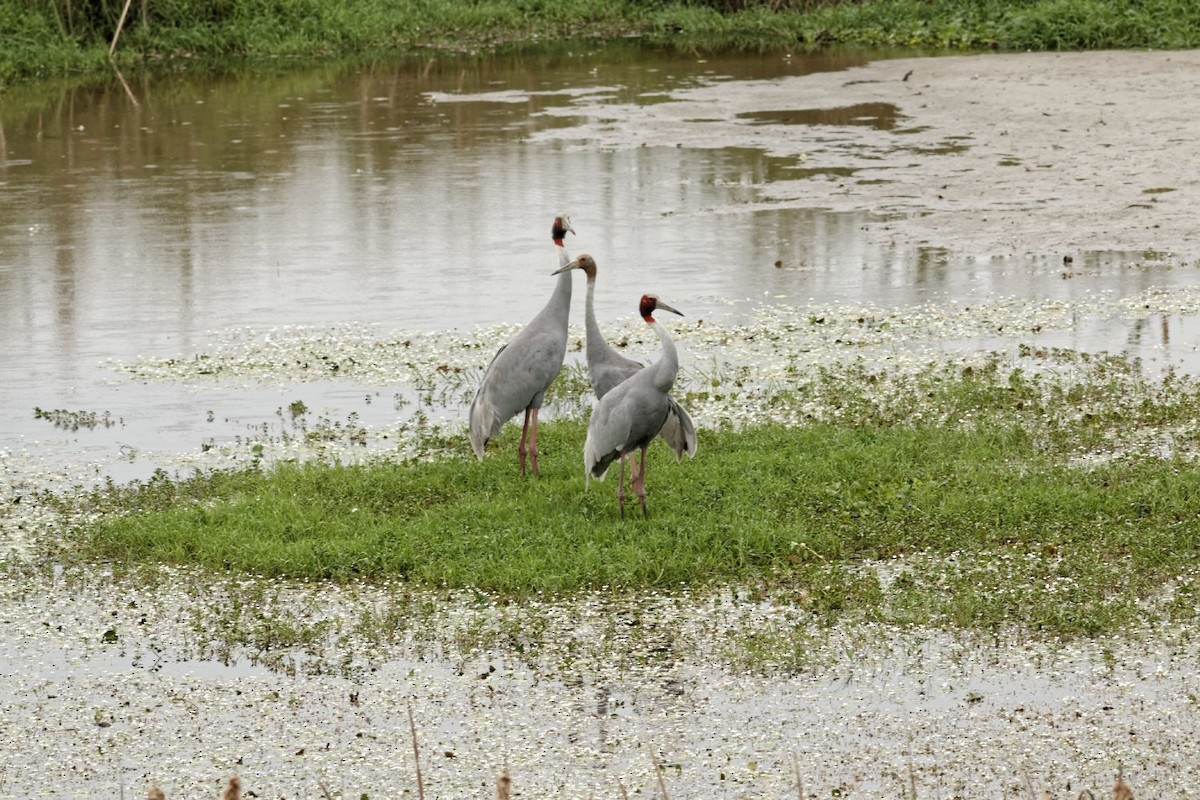crane: (468, 209, 580, 480), (591, 289, 691, 521), (552, 252, 644, 415)
